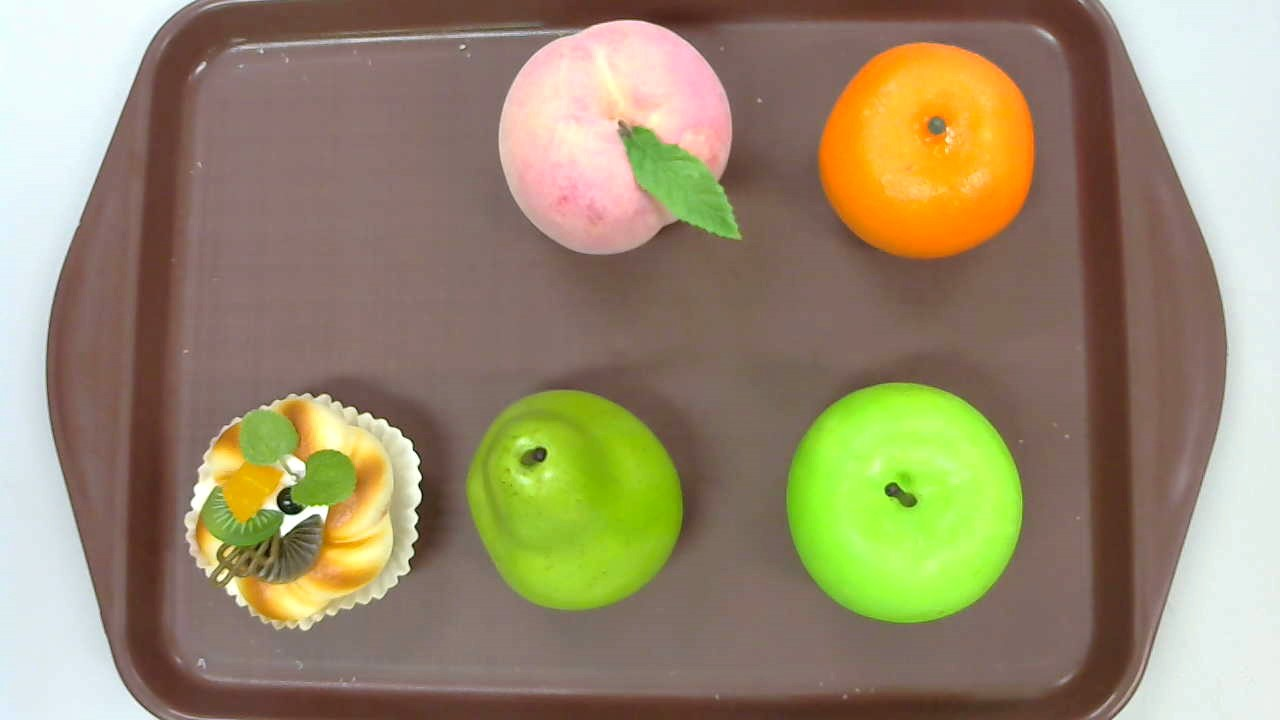fruit tart: (182, 393, 423, 631)
green apple: (784, 382, 1022, 623)
green pear: (465, 388, 683, 611)
orange: (817, 42, 1035, 259)
peach: (497, 20, 743, 255)
